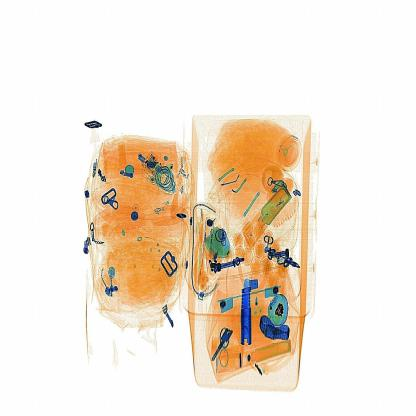pliers: (235, 270, 260, 352)
